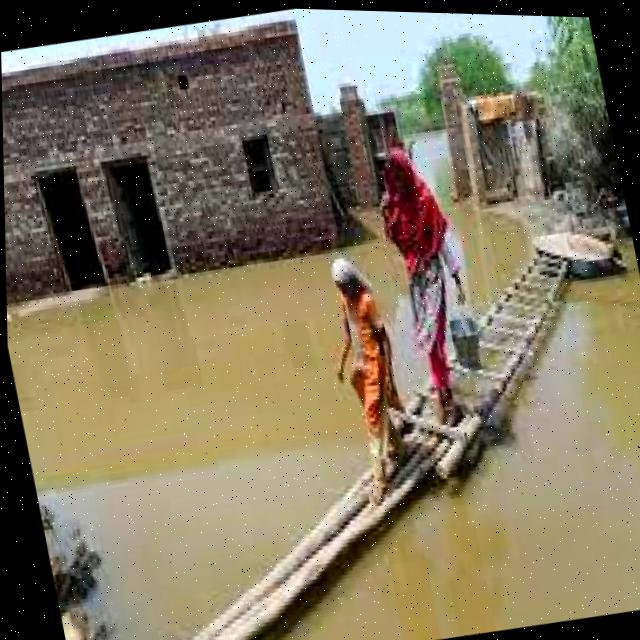civilian: (362, 136, 493, 429), (307, 248, 424, 510)
